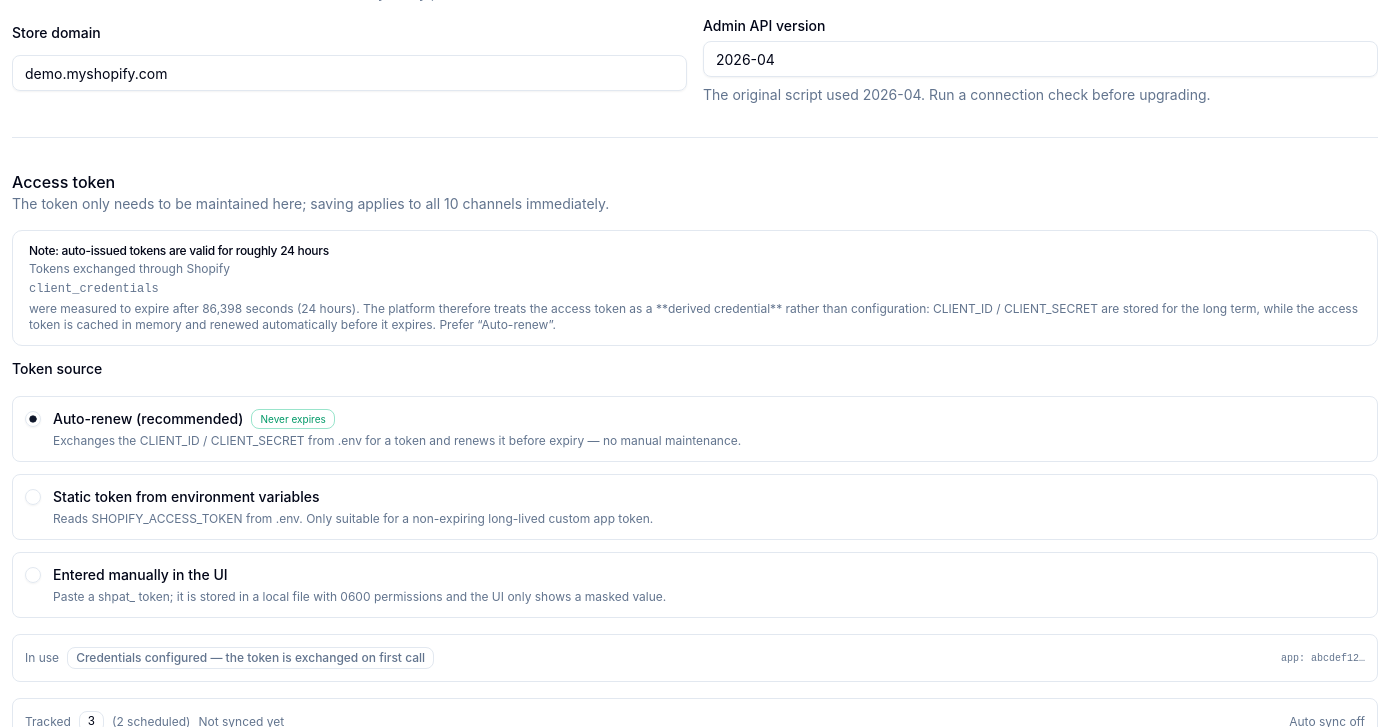
it: GlobalSettingsForm 中英双语 › 英文界面下的校验提示是英文
Clear the field labelled "Store domain": (350, 73) [12,55,687,91]
(page scrolled)
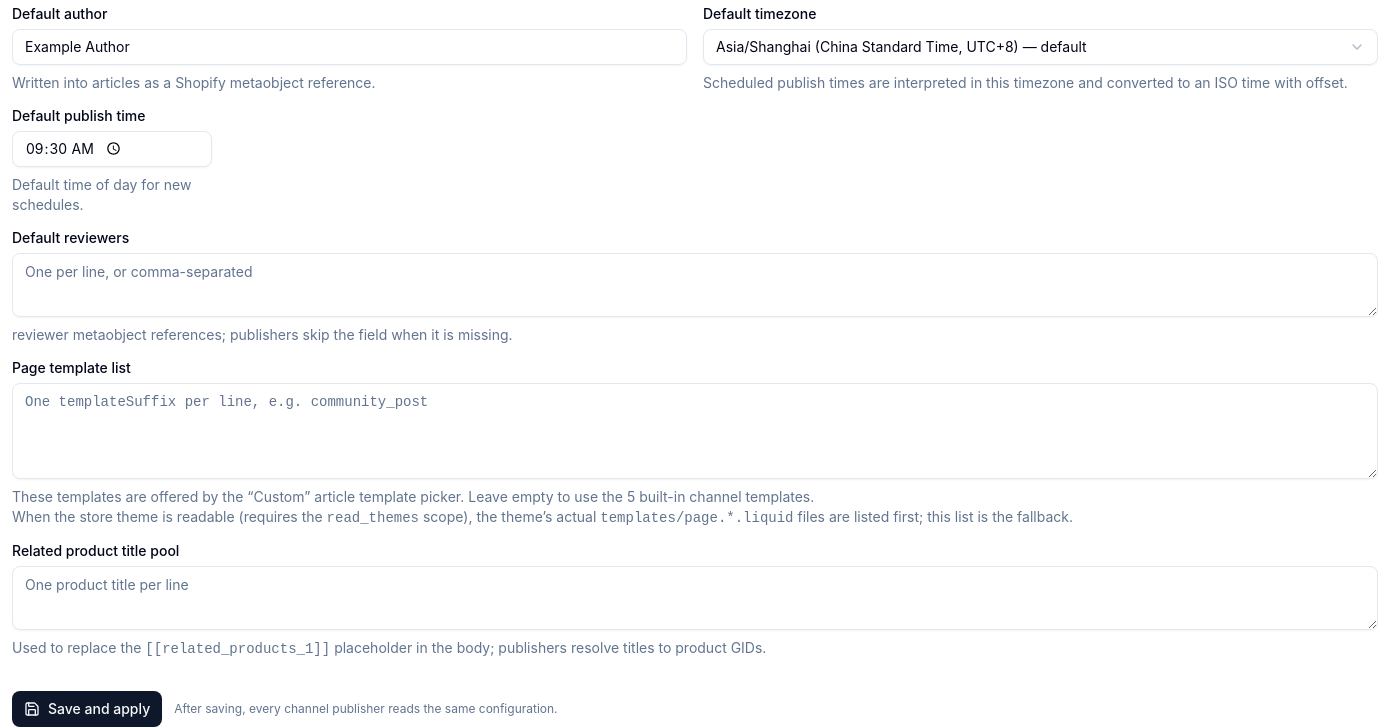
Click the button "Save and apply": (87, 709) [12,691,162,726]
(page scrolled)
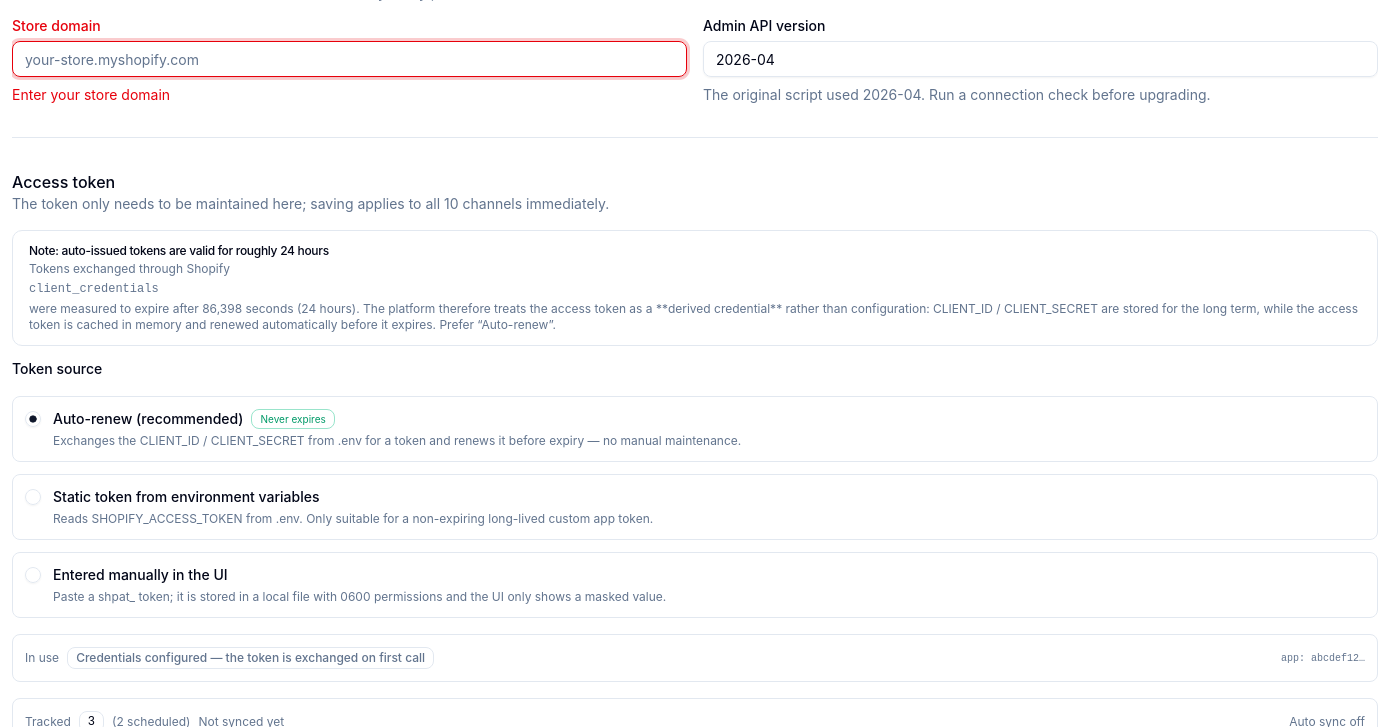
Result: the text "Enter your store domain" is shown at [12,86,170,103]
